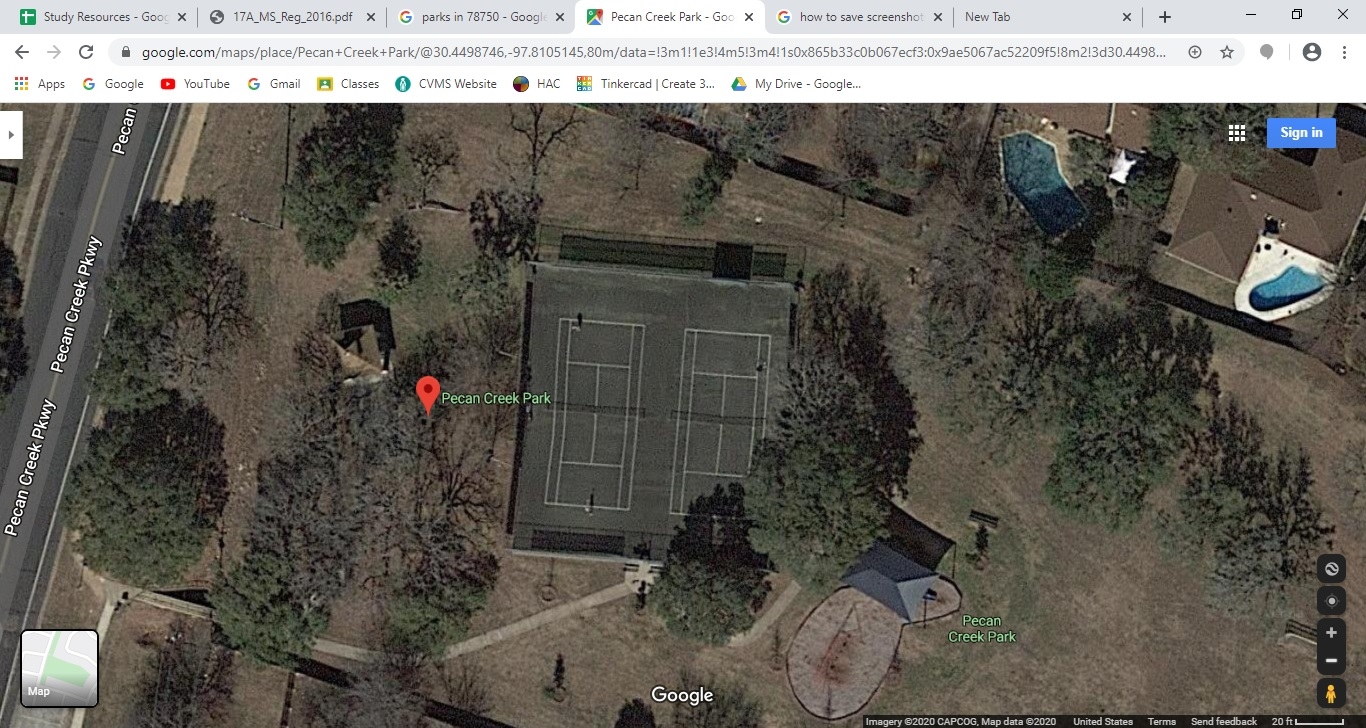tennis: (665, 304, 790, 531), (531, 297, 645, 528)
